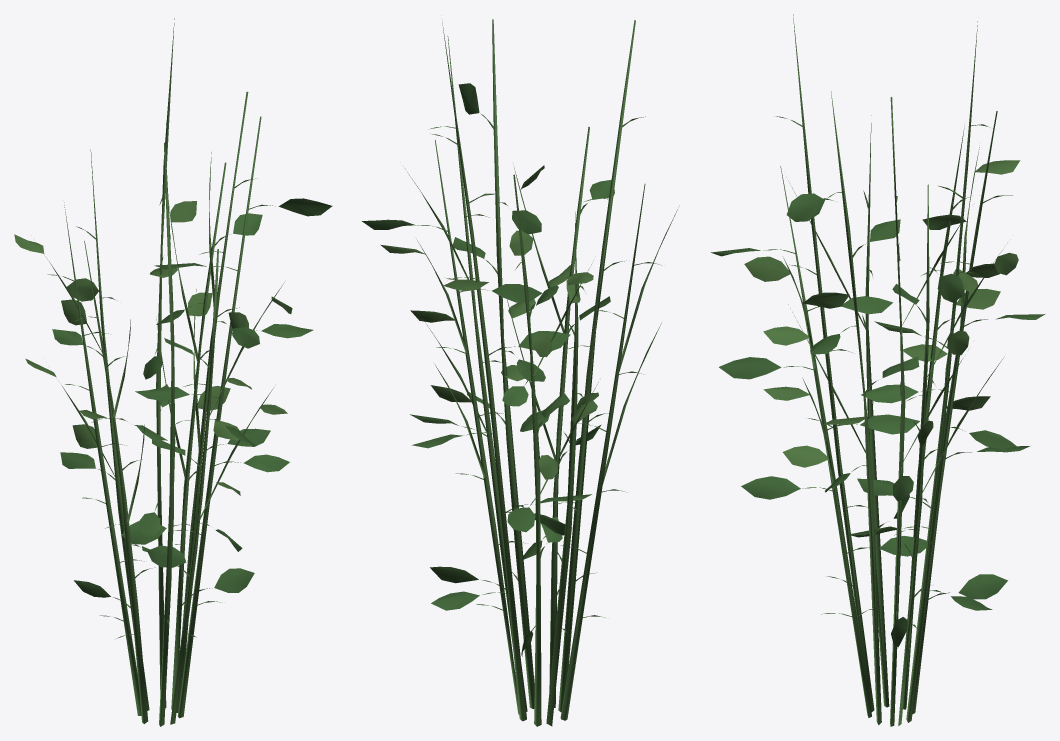
The model's file is Fragon_1_Niveau1.fbx.
3 renders of one model, left to right at view 1: azimuth 30°, elevation 25°; view 2: azimuth 150°, elevation 25°; view 3: azimuth 270°, elevation 25°, orthographic. The views are drawn at different scales.
Visible parts, largest first — view 1: Fragon_1_Niveau1; view 2: Fragon_1_Niveau1; view 3: Fragon_1_Niveau1.
Boxes of the visible parts, bbox=[...] form: Fragon_1_Niveau1: bbox=[14, 18, 332, 726]; Fragon_1_Niveau1: bbox=[362, 19, 679, 726]; Fragon_1_Niveau1: bbox=[711, 14, 1045, 726].
Size of the model in its own units: 26.96 by 72.74 by 30.34.
